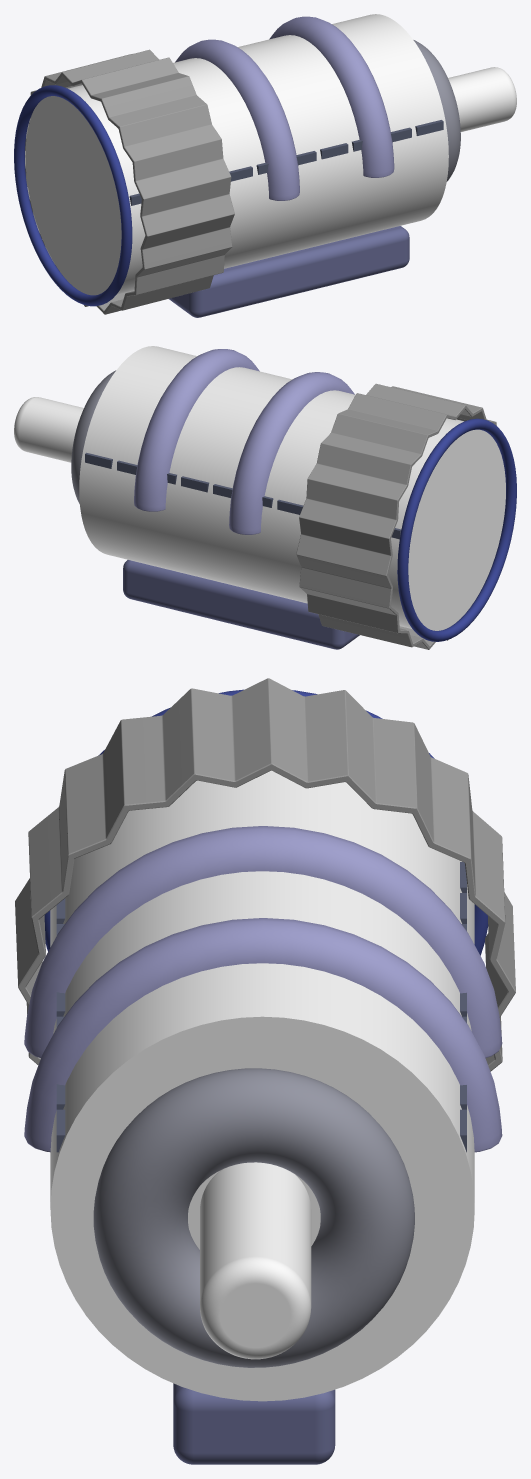
File: motor.glb
3 views of the same model, one above another, from view 1: azimuth 30°, elevation 25°; view 2: azimuth 150°, elevation 25°; view 3: azimuth 270°, elevation 25° (orthographic). The views are drawn at different scales.
Visible parts, largest first — view 1: Cylinder, Zigzag_Circular_Object, Half_of_Thin_Torus (×2), Box, Torus, Cylinder_1, Torus_1; view 2: Cylinder, Zigzag_Circular_Object, Half_of_Thin_Torus (×2), Box, Torus, Cylinder_1, Torus_1; view 3: Cylinder, Torus_1, Half_of_Thin_Torus (×2), Zigzag_Circular_Object, Cylinder_1, Box, Torus.
Boxes of the visible parts, x1,y1,x2,y2 form: Cylinder: (25, 14, 448, 295); Zigzag_Circular_Object: (25, 49, 234, 314); Half_of_Thin_Torus (×2): (175, 16, 394, 200); Box: (169, 226, 409, 317); Torus: (14, 85, 132, 306); Cylinder_1: (448, 67, 516, 131); Torus_1: (413, 40, 460, 181); Cylinder: (79, 346, 505, 630); Zigzag_Circular_Object: (296, 383, 496, 649); Half_of_Thin_Torus (×2): (134, 349, 354, 534); Box: (123, 560, 359, 649); Torus: (397, 418, 516, 641); Cylinder_1: (14, 397, 83, 462); Torus_1: (71, 370, 115, 504); Cylinder: (50, 770, 474, 1401); Torus_1: (93, 1068, 414, 1367); Half_of_Thin_Torus (×2): (24, 826, 502, 1152); Zigzag_Circular_Object: (15, 678, 515, 1071); Cylinder_1: (200, 1162, 311, 1359); Box: (173, 1383, 335, 1464); Torus: (44, 689, 488, 955).
Size of the model in its own units: 199 by 108 by 98.93.
